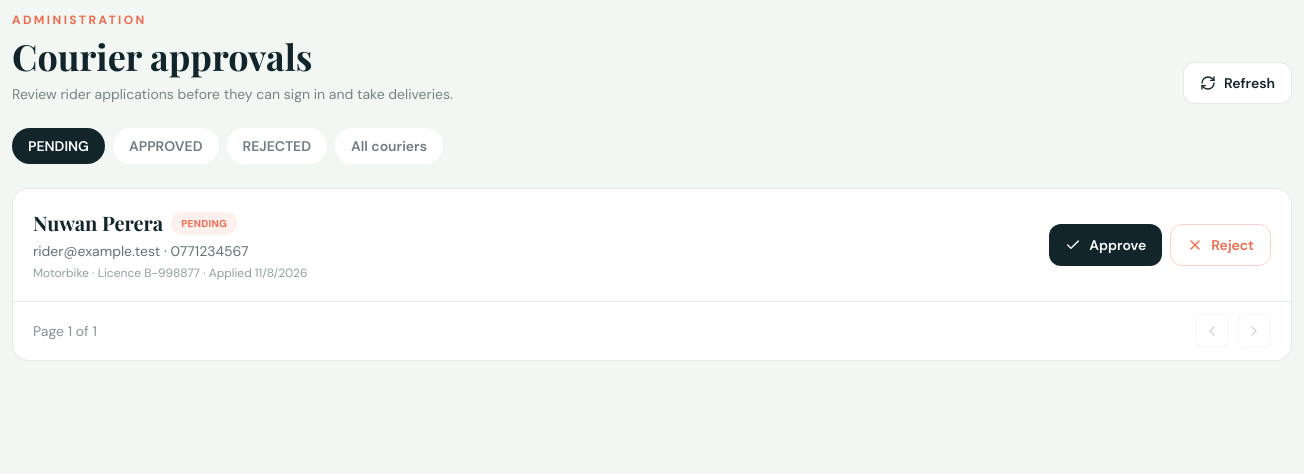
it: CourierApprovalsPage › requests a rejection reason and sends it to the API
Expected: the heading "Nuwan Perera" is shown, [33,209,163,237]
Step 1. Click the button "All couriers" → (389, 146), box [335,128,443,164]
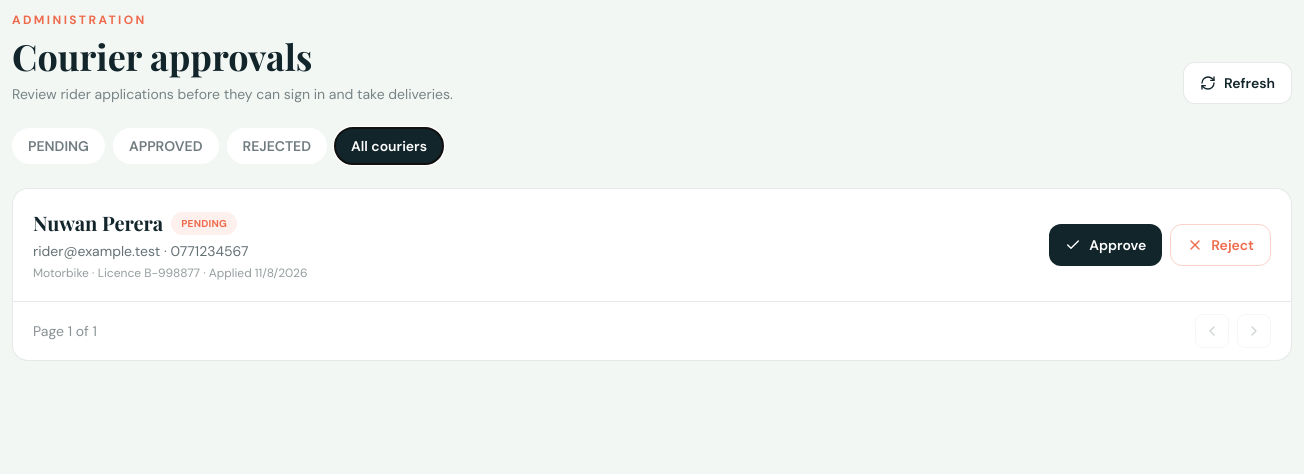
Step 2. Click the button "Reject" → (1221, 245), box [1170,224,1271,266]
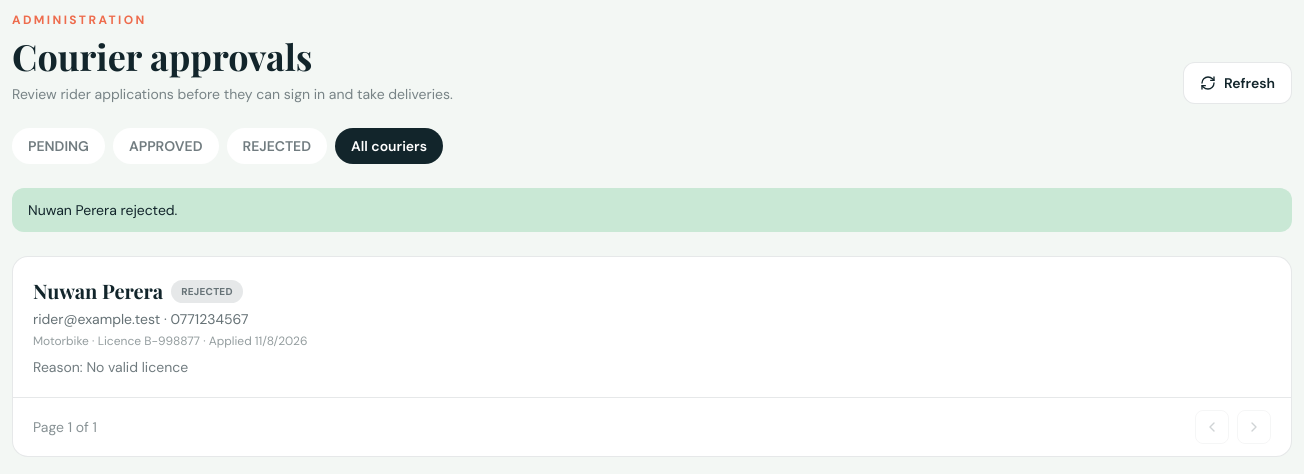
Expected: the message reads "Nuwan Perera rejected.", [28,201,177,219]
Expected: the text "REJECTED" is shown, [171,280,243,302]
